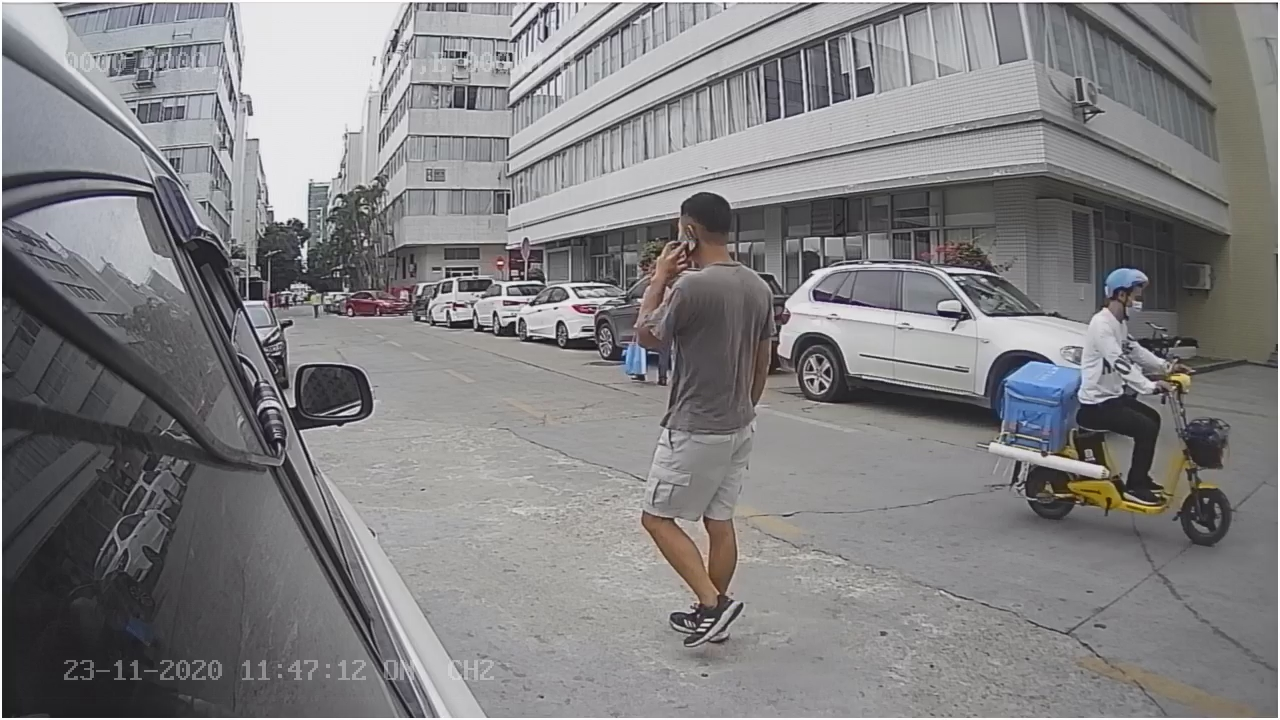person: (630, 180, 782, 647), (1073, 256, 1181, 392)
